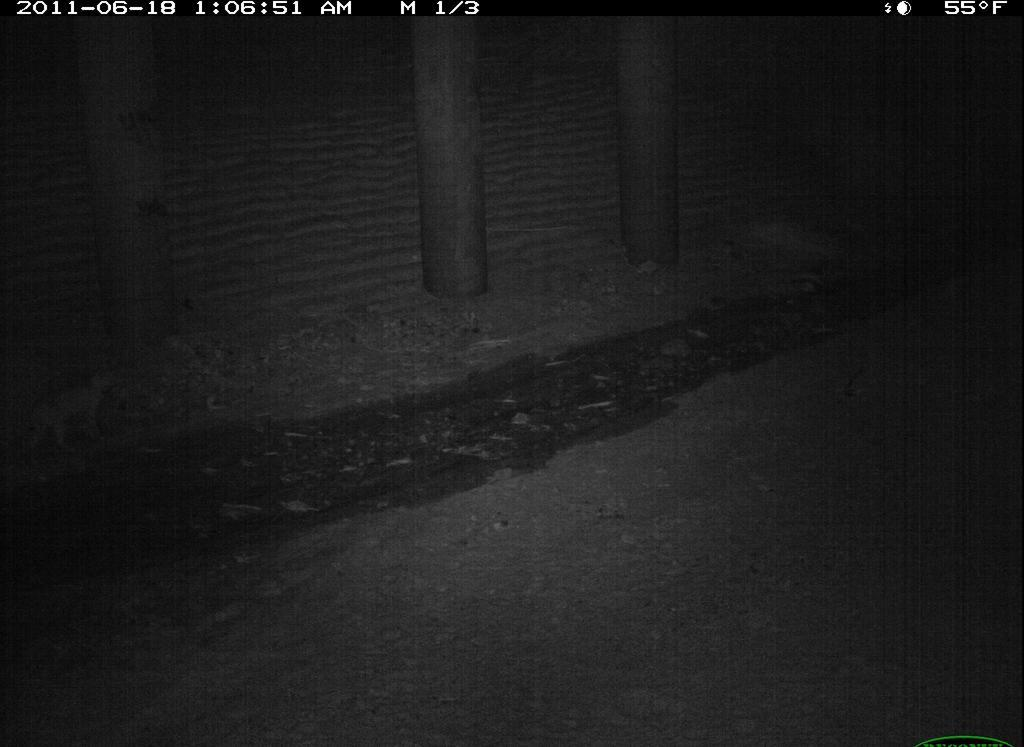bobcat: (36, 710, 237, 747)
